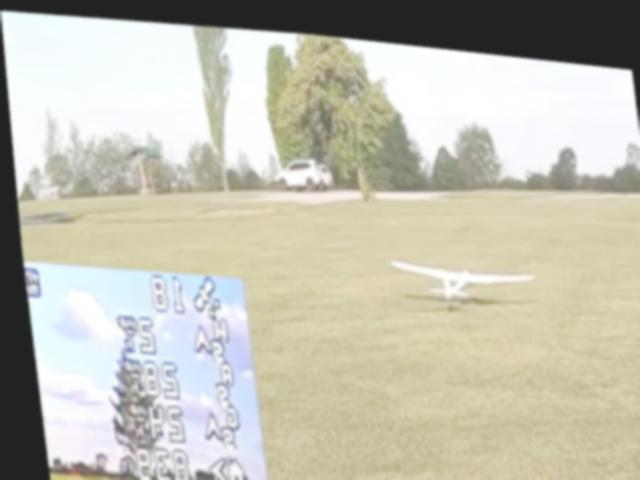iha: (387, 239, 534, 299)
